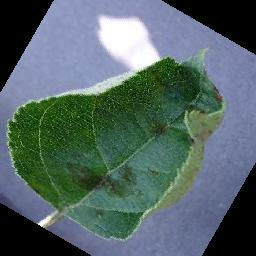apple healthy: (5, 47, 226, 241)
